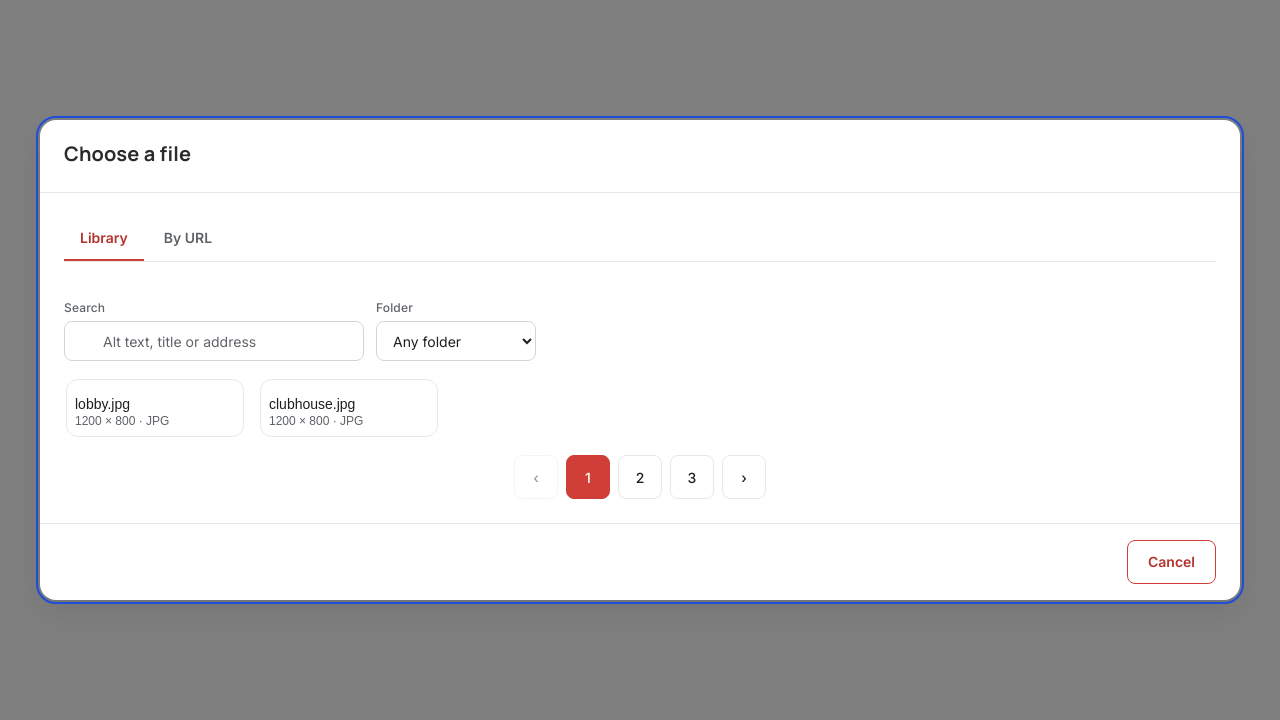
Scenario: browsing (QA-63) › shows a failed request as one, not as the last answer
Click the button named "next". click: {"x": 744, "y": 477}
box: [722, 455, 766, 499]
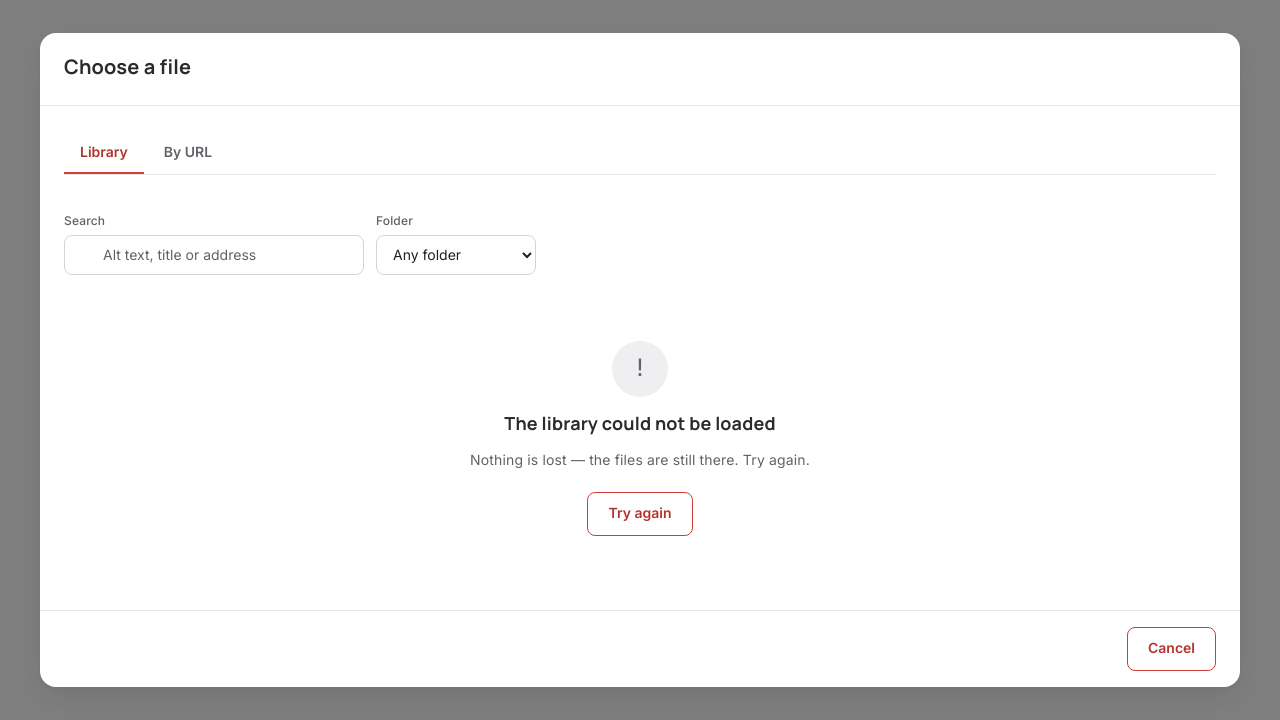
Expected: the text "The library could not be loaded" is shown, [504, 408, 776, 437]
Expected: the button "lobby.jpg" is gone
